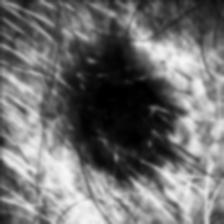Potentially Malignant Skin Tumors: (86, 74, 170, 166)
